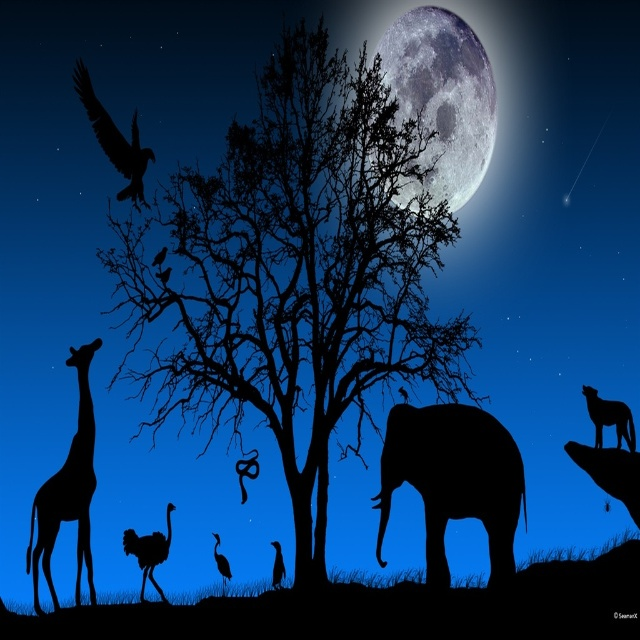Giraffe: (31, 341, 103, 613)
